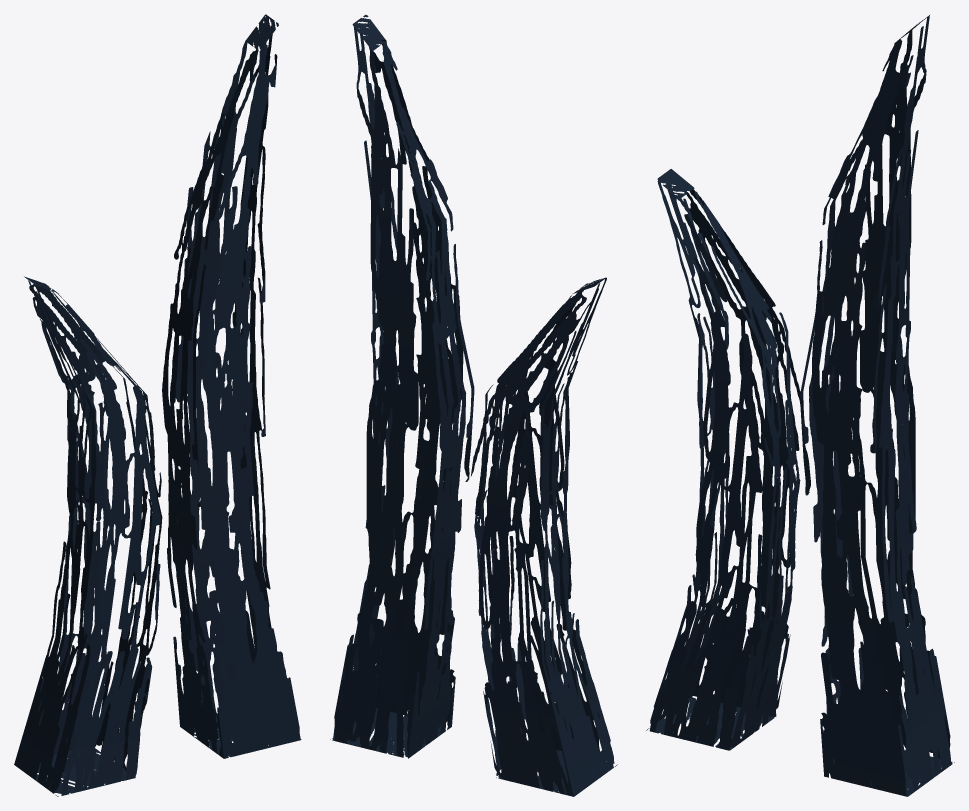
File: grass1(move).FBX
The picture shows the model from 3 angles, left to right: view 1: azimuth 30°, elevation 25°; view 2: azimuth 150°, elevation 25°; view 3: azimuth 330°, elevation 25°; orthographic projection. The views are drawn at different scales.
Visible parts, largest first — view 1: Box001; view 2: Box001; view 3: Box001.
Boxes of the visible parts, x1,y1,x2,y2 form: Box001: [14, 14, 301, 796]; Box001: [330, 14, 617, 796]; Box001: [646, 15, 954, 796].
Size of the model in its own units: 6.65 by 18 by 2.03.
1 material, 1 textured.
